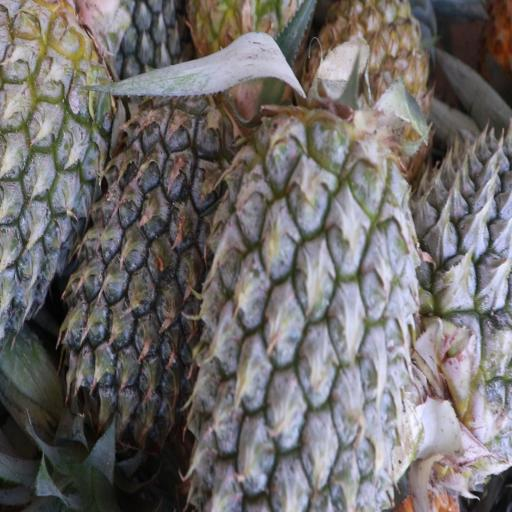Pineapple - v8 v1: (314, 0, 432, 166)
